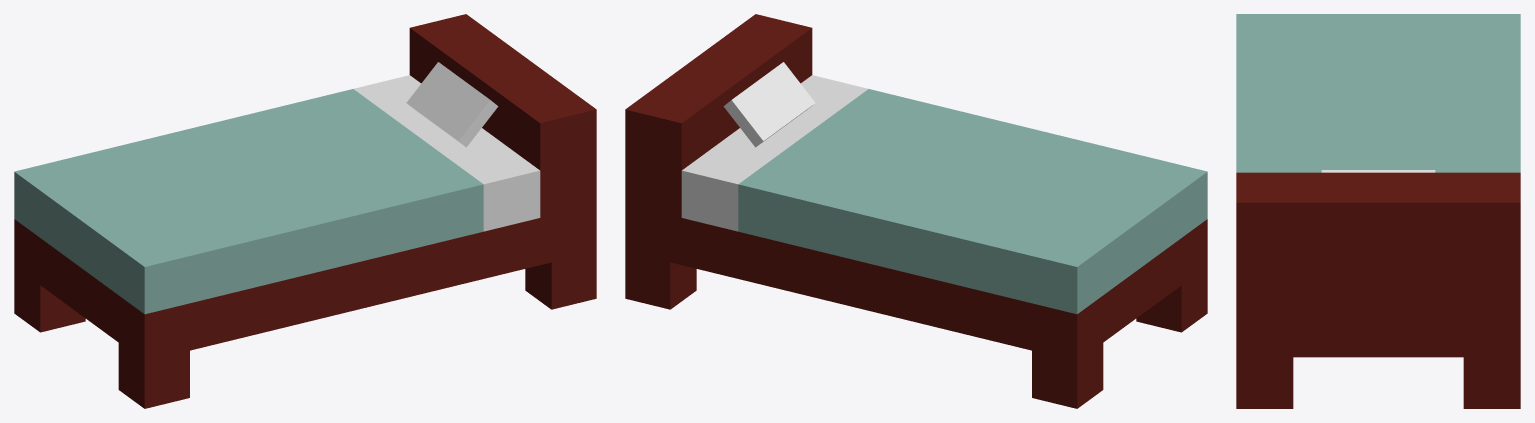
Rendered from bed.fbx.
The picture shows the model from 3 angles, left to right: view 1: azimuth 30°, elevation 25°; view 2: azimuth 150°, elevation 25°; view 3: azimuth 270°, elevation 25°; orthographic projection. The views are drawn at different scales.
Parts seen in each view (by area): view 1: Bed; view 2: Bed; view 3: Bed.
Part boxes in pixels (bbox=[...]): Bed: bbox=[14, 14, 596, 408]; Bed: bbox=[625, 14, 1207, 408]; Bed: bbox=[1236, 14, 1520, 408].
Bounding box in the file's own units: 400 × 160 × 200.
